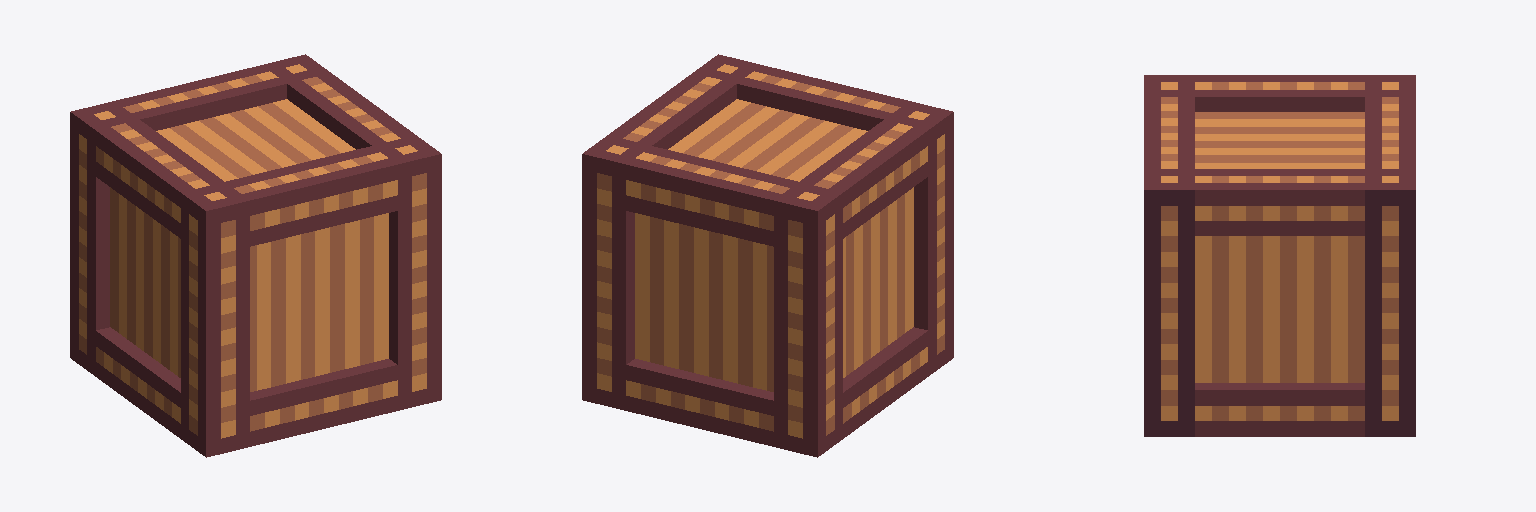
The picture shows the model from 3 angles: view 1: azimuth 30°, elevation 25°; view 2: azimuth 150°, elevation 25°; view 3: azimuth 270°, elevation 25°; orthographic projection.
Visible parts, largest first — view 1: cube; view 2: cube; view 3: cube.
Part boxes in pixels (bbox=[...]): cube: bbox=[70, 54, 441, 457]; cube: bbox=[582, 54, 953, 457]; cube: bbox=[1144, 75, 1415, 436].
Bounding box in the file's own units: 1 × 1 × 1.
1 materials, 1 textured.